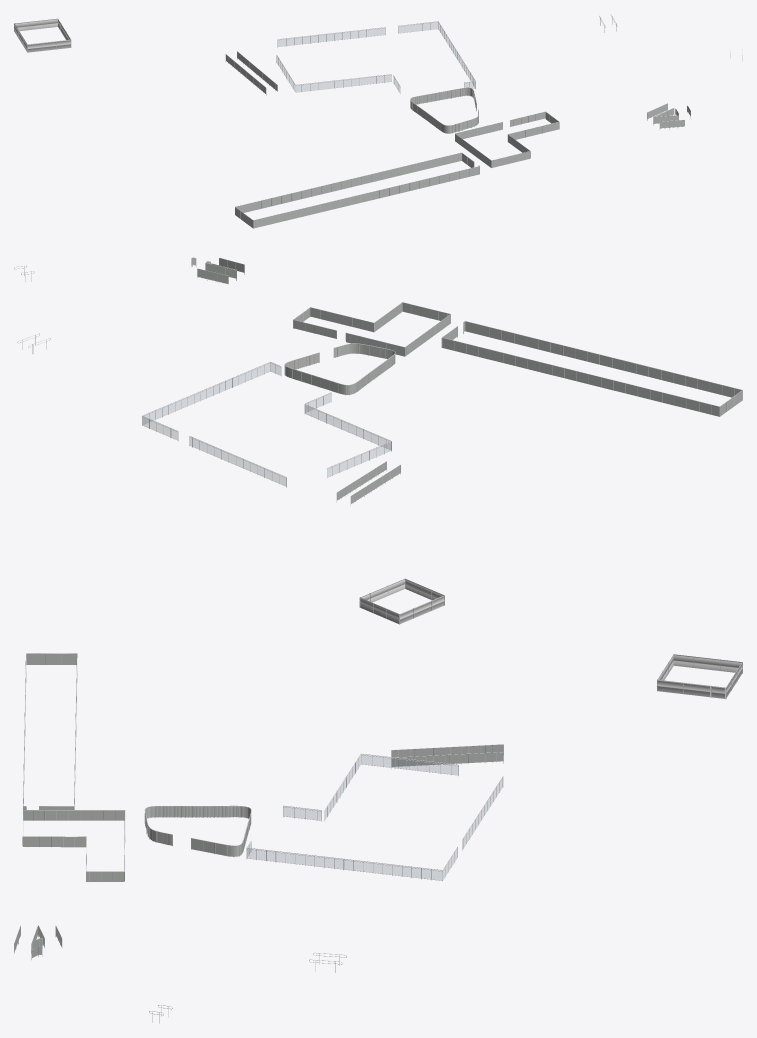
Rendered from Cercas_grades.fbx.
3 views of the same model, one above another, from view 1: azimuth 30°, elevation 25°; view 2: azimuth 150°, elevation 25°; view 3: azimuth 270°, elevation 25° (orthographic). The views are drawn at different scales.
Parts seen in each view (by area): view 1: Grades_cercas_alpha, Cercas, Vidro, Grades_cercas_alpha_Playground, Grade_petplace, Grades_cercas, Cercas_Geo; view 2: Grades_cercas_alpha, Cercas, Vidro, Grades_cercas_alpha_Playground, Grade_petplace, Grades_cercas, Cercas_Geo; view 3: Cercas, Vidro, Grades_cercas_alpha, Grades_cercas_alpha_Playground, Grades_cercas, Grade_petplace, Cercas_Geo.
Part boxes in pixels (<box>): Grades_cercas_alpha: <box>226,55,690,228</box>; Cercas: <box>14,14,742,228</box>; Vidro: <box>277,22,475,92</box>; Grades_cercas_alpha_Playground: <box>410,88,478,133</box>; Grade_petplace: <box>14,18,70,52</box>; Grades_cercas: <box>226,52,690,127</box>; Cercas_Geo: <box>410,87,478,133</box>; Grades_cercas_alpha: <box>191,258,742,503</box>; Cercas: <box>14,257,742,624</box>; Vidro: <box>142,362,391,485</box>; Grades_cercas_alpha_Playground: <box>285,344,394,394</box>; Grade_petplace: <box>360,579,444,623</box>; Grades_cercas: <box>191,257,400,500</box>; Cercas_Geo: <box>285,343,395,394</box>; Cercas: <box>14,653,742,1023</box>; Vidro: <box>247,754,502,879</box>; Grades_cercas_alpha: <box>14,654,503,953</box>; Grades_cercas_alpha_Playground: <box>145,806,250,856</box>; Grades_cercas: <box>31,744,503,957</box>; Grade_petplace: <box>657,654,742,698</box>; Cercas_Geo: <box>144,805,251,845</box>.
Bounding box in the file's own units: 7368 × 228 × 6217.
